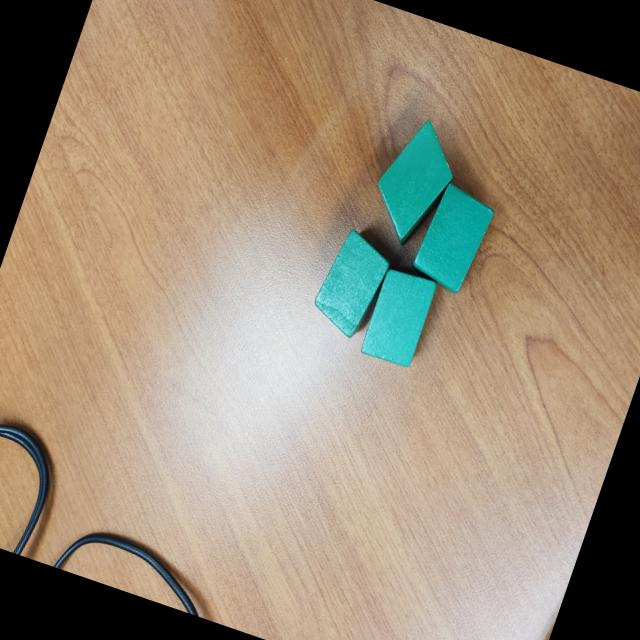green: (357, 108, 469, 256), (304, 223, 401, 344), (408, 179, 500, 297), (356, 263, 439, 372)
